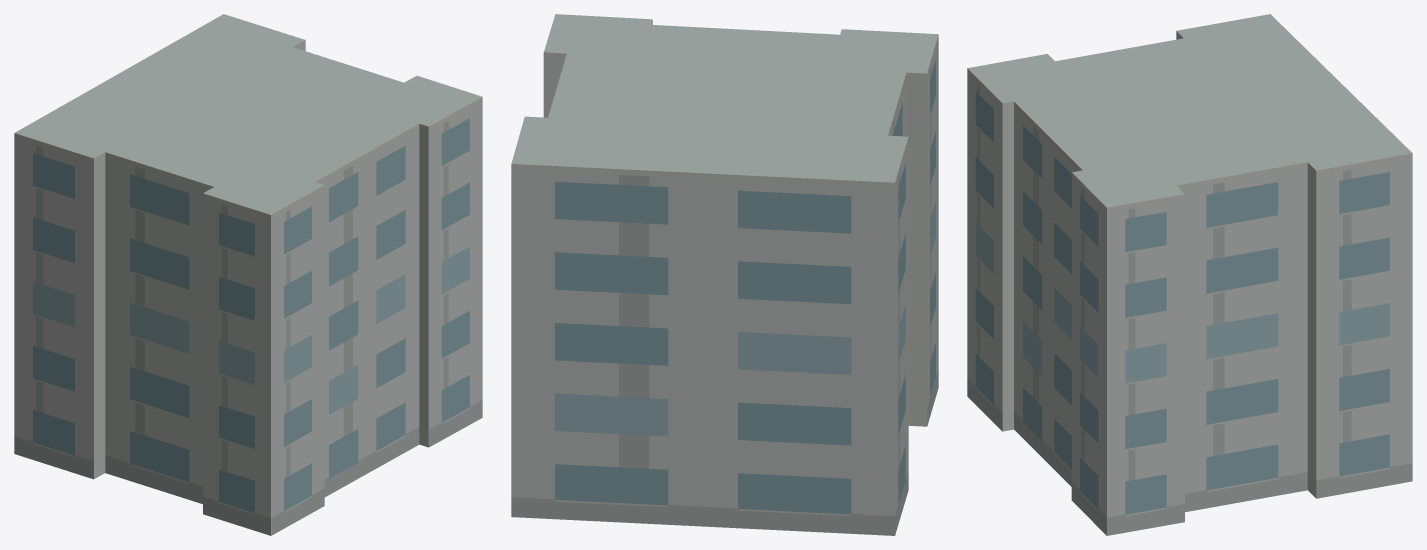
The model's file is survey-upis-32769002.glb.
3 views of the same model, side by side, from view 1: azimuth 30°, elevation 25°; view 2: azimuth 150°, elevation 25°; view 3: azimuth 270°, elevation 25° (orthographic). The views are drawn at different scales.
Parts seen in each view (by area): view 1: survey-upis-32769002.tmp; view 2: survey-upis-32769002.tmp; view 3: survey-upis-32769002.tmp.
Part boxes in pixels (<box>): survey-upis-32769002.tmp: <box>14,14,482,535</box>; survey-upis-32769002.tmp: <box>511,14,938,535</box>; survey-upis-32769002.tmp: <box>967,14,1412,535</box>.
Bounding box in the file's own units: 19.33 × 15.25 × 18.77.
